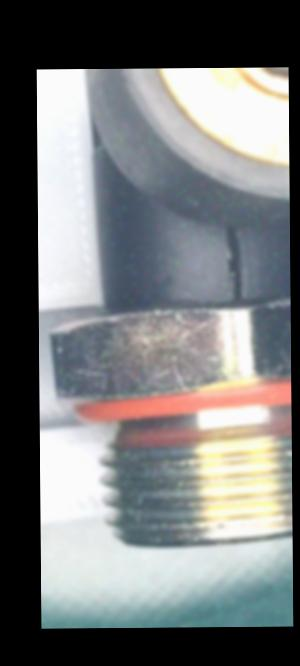craze: (218, 221, 251, 302)
